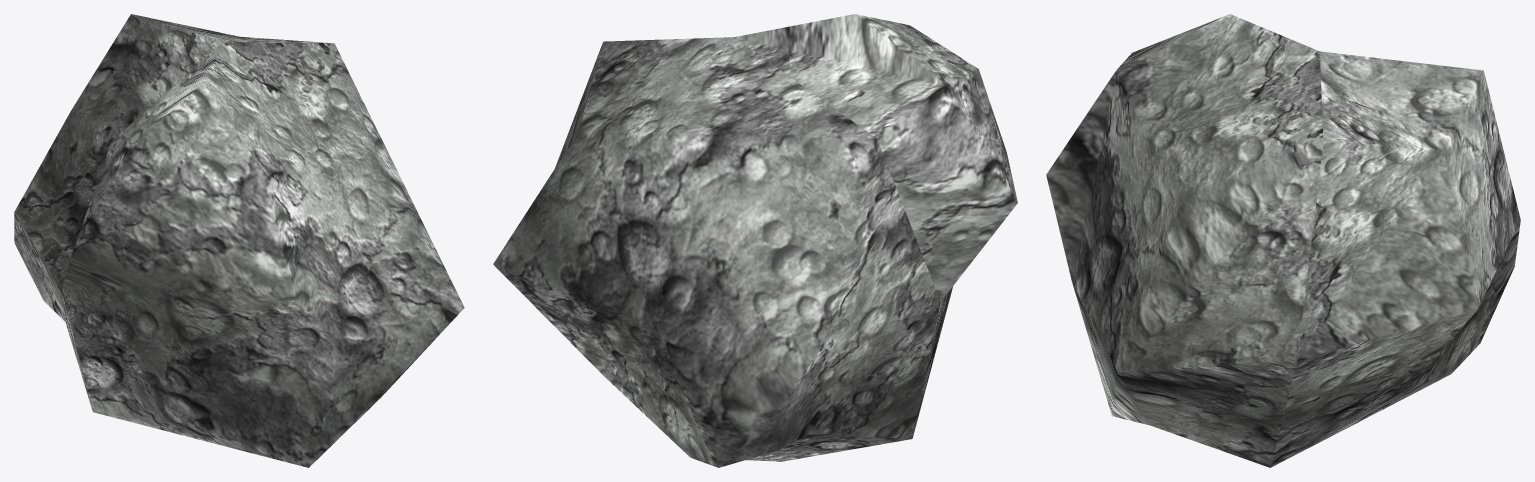
Rendered from Asteroid.fbx.
The picture shows the model from 3 angles, left to right: view 1: azimuth 30°, elevation 25°; view 2: azimuth 150°, elevation 25°; view 3: azimuth 270°, elevation 25°; orthographic projection. The views are drawn at different scales.
Visible parts, largest first — view 1: Asteroid; view 2: Asteroid; view 3: Asteroid.
Boxes of the visible parts, x1,y1,x2,y2 form: Asteroid: [14, 14, 464, 467]; Asteroid: [493, 14, 1017, 467]; Asteroid: [1046, 14, 1520, 467].
Size of the model in its own units: 1.76 by 1.71 by 1.8.
